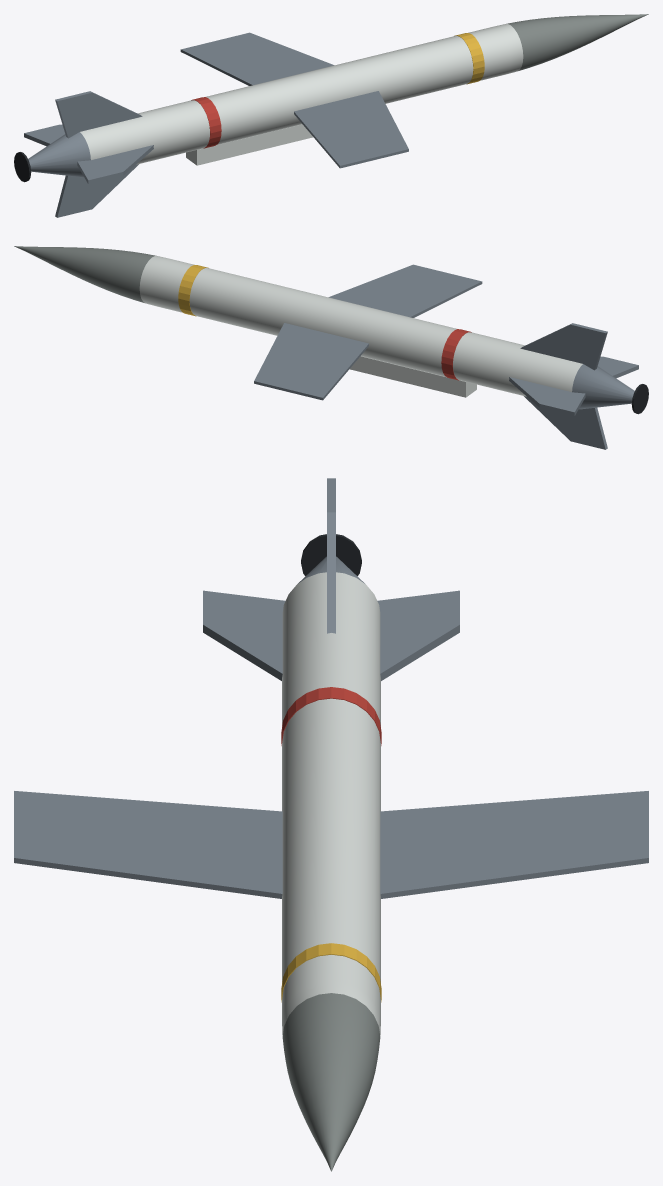
The model's file is pla_cj10.glb.
3 renders of one model, top to bottom at view 1: azimuth 30°, elevation 25°; view 2: azimuth 150°, elevation 25°; view 3: azimuth 270°, elevation 25°, orthographic. The views are drawn at different scales.
Visible parts, largest first — view 1: missile_body, titanium, seeker, hazard_red, marking_yellow, rubber; view 2: missile_body, titanium, seeker, hazard_red, marking_yellow, rubber; view 3: titanium, missile_body, seeker, rubber, hazard_red, marking_yellow.
Part boxes in pixels (box(x1,y1,x2,y2)): missile_body: box(80, 24, 523, 165); titanium: box(24, 32, 408, 217); seeker: box(506, 14, 648, 70); hazard_red: box(191, 97, 221, 148); marking_yellow: box(454, 33, 484, 84); rubber: box(14, 152, 31, 182); missile_body: box(139, 256, 582, 397); titanium: box(254, 264, 638, 449); seeker: box(14, 246, 156, 302); hazard_red: box(441, 329, 471, 380); marking_yellow: box(178, 265, 208, 316); rubber: box(631, 384, 648, 414); titanium: box(14, 478, 648, 898); missile_body: box(282, 572, 380, 1035); seeker: box(282, 993, 380, 1171); rubber: box(301, 534, 361, 575); hazard_red: box(281, 687, 381, 745); marking_yellow: box(281, 943, 381, 1002).
Size of the model in its own units: 10 by 1.78 by 4.4.
